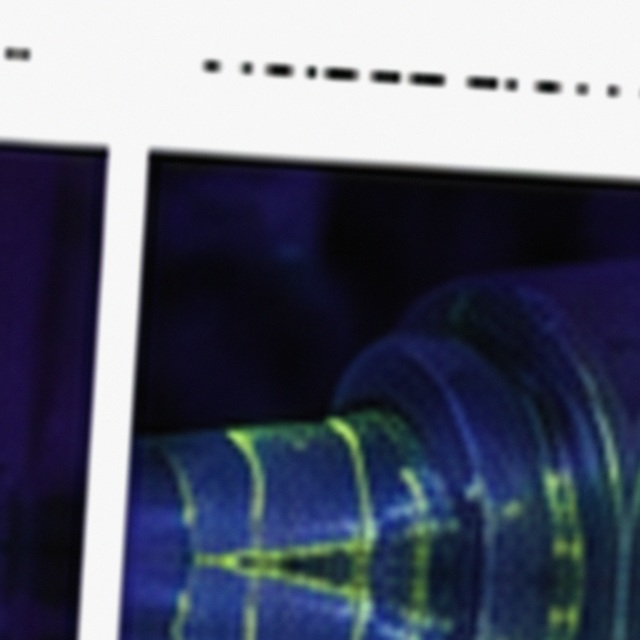hydraulic_oil_leak: (192, 523, 375, 600), (226, 417, 370, 504), (405, 501, 458, 587), (541, 467, 565, 507), (400, 456, 421, 485), (502, 497, 528, 518), (179, 474, 191, 503), (470, 484, 480, 495), (599, 414, 606, 422), (371, 415, 379, 420), (489, 513, 495, 518), (412, 445, 418, 450), (484, 503, 488, 507), (392, 433, 395, 437), (359, 505, 361, 508)
